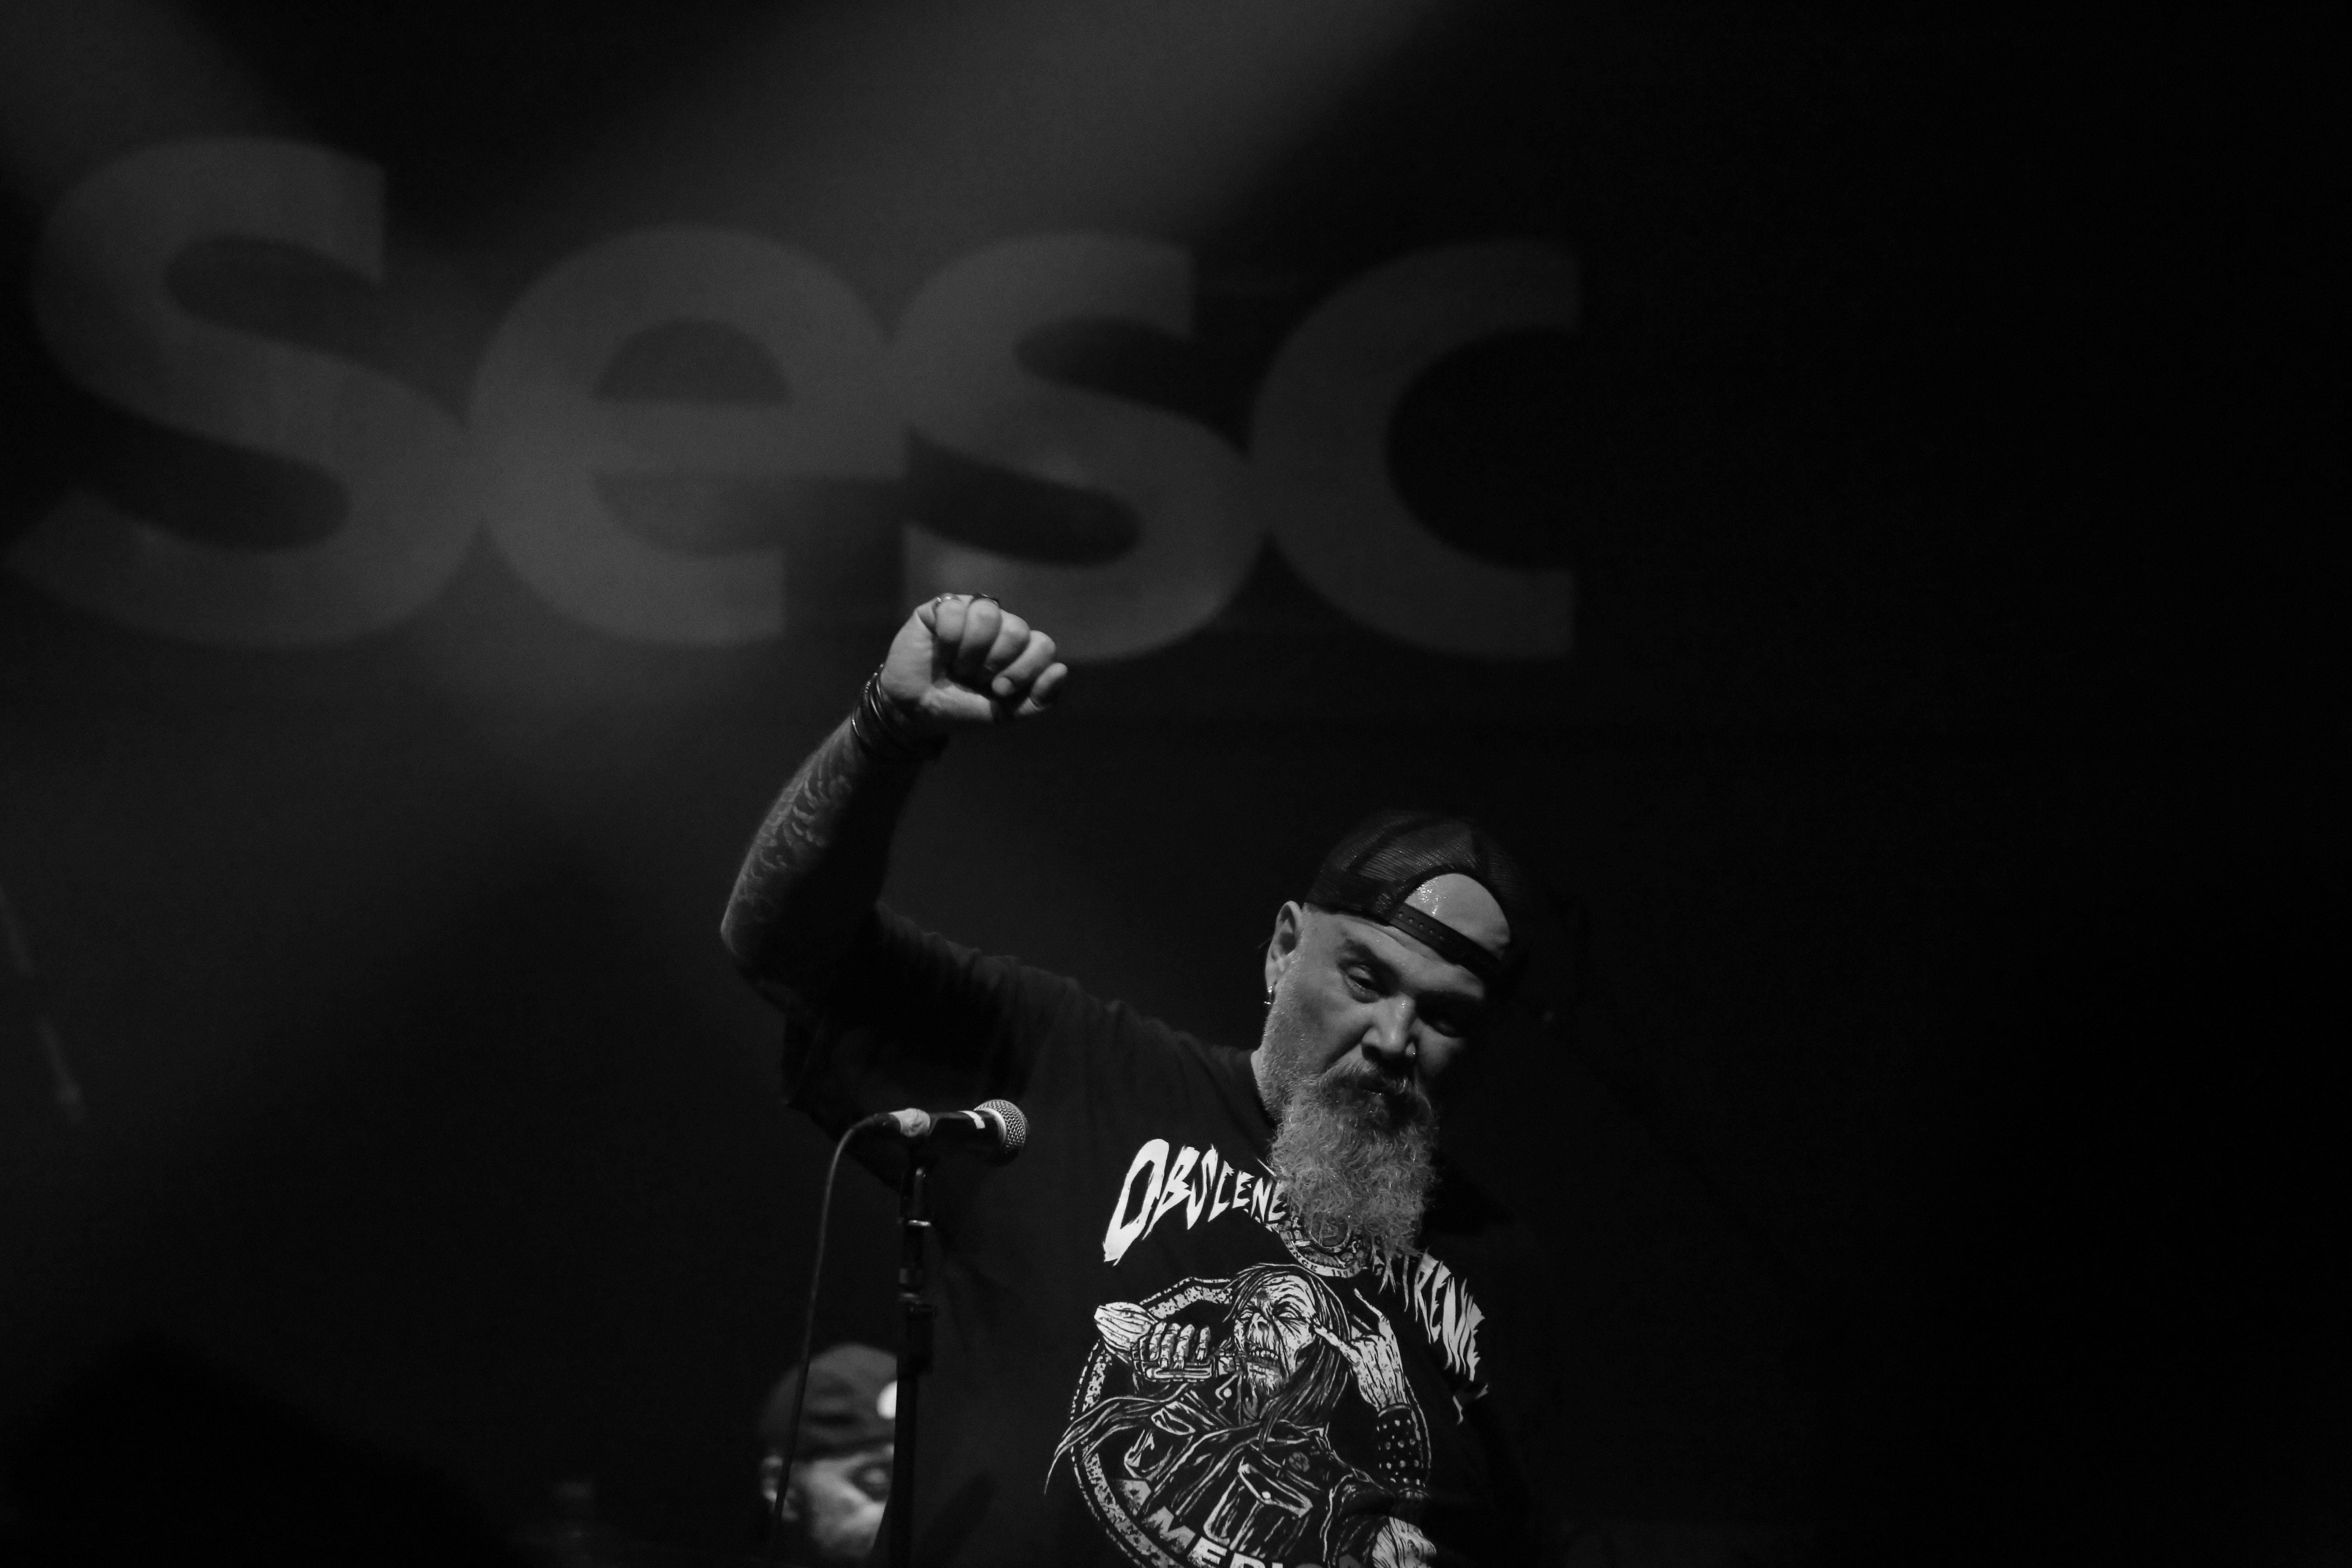fist: (894, 583, 1071, 784)
